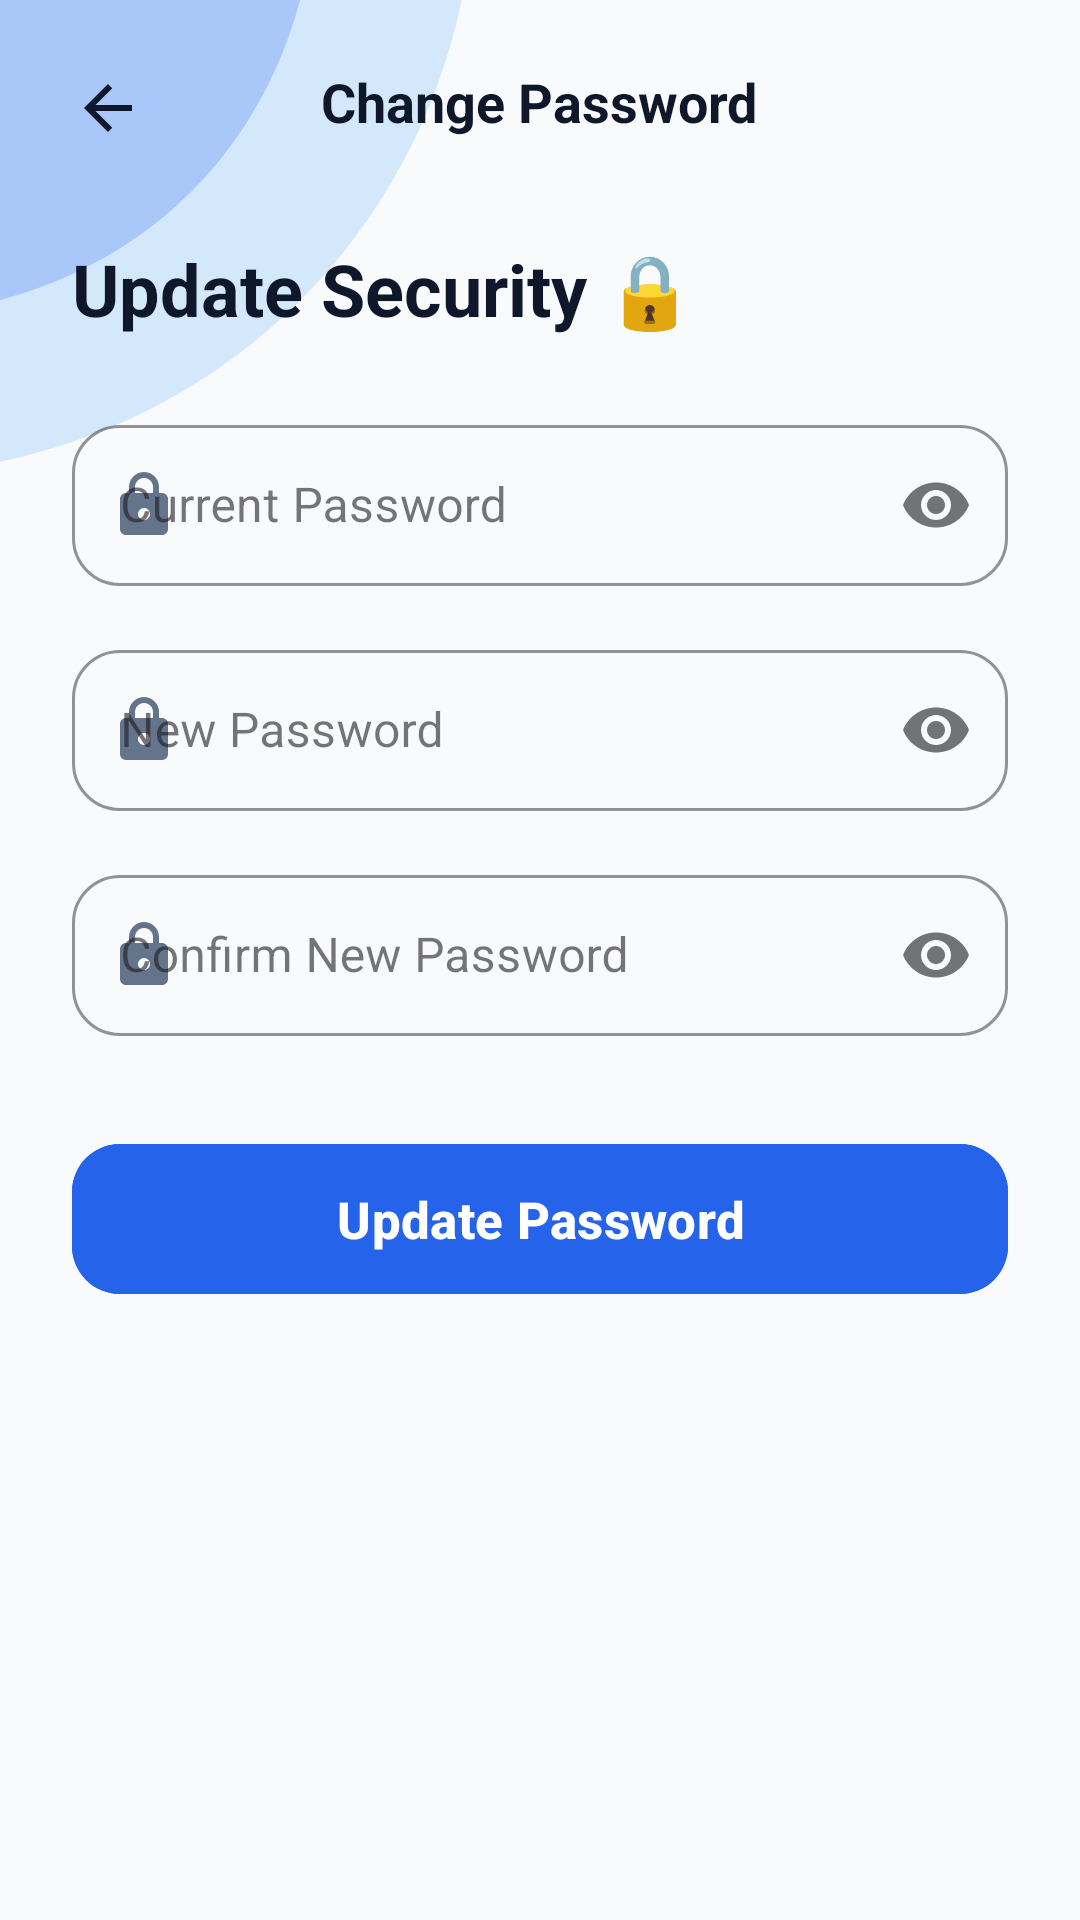

Locate icon controls on the screen. Image size 1080×1920, boxes as (left=x1, top=y1, right=x2, bottom=y2).
Back Button: (left=84, top=84, right=132, bottom=132)
